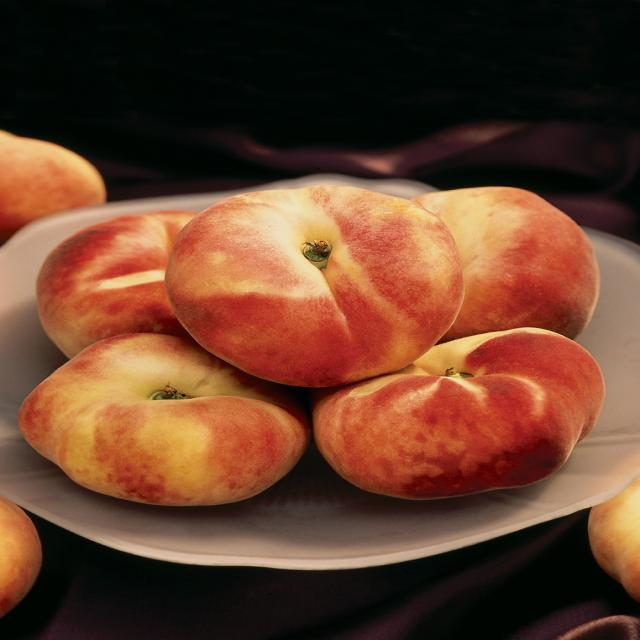Peach: (15, 181, 608, 509), (0, 128, 111, 241), (586, 458, 640, 600), (0, 497, 46, 617)
